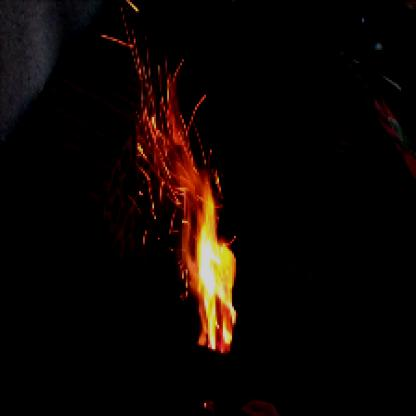Fire: (124, 43, 244, 360)
